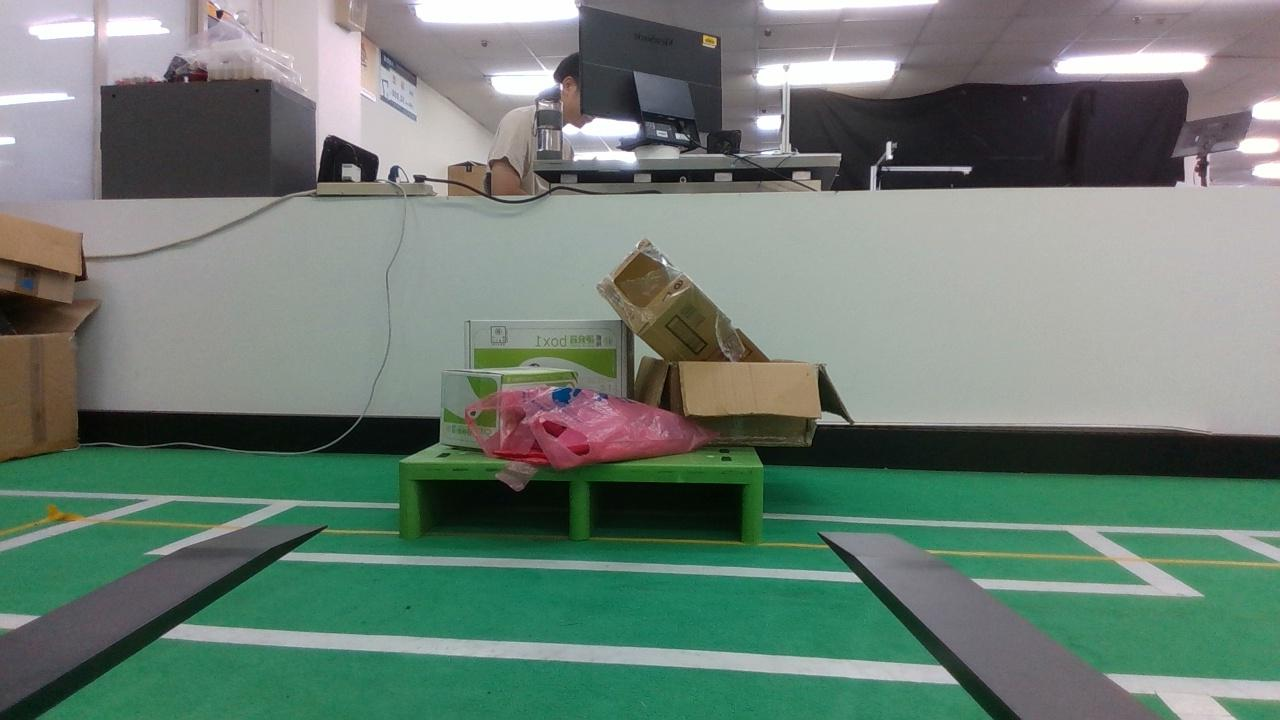Pallet: (398, 460, 763, 543)
